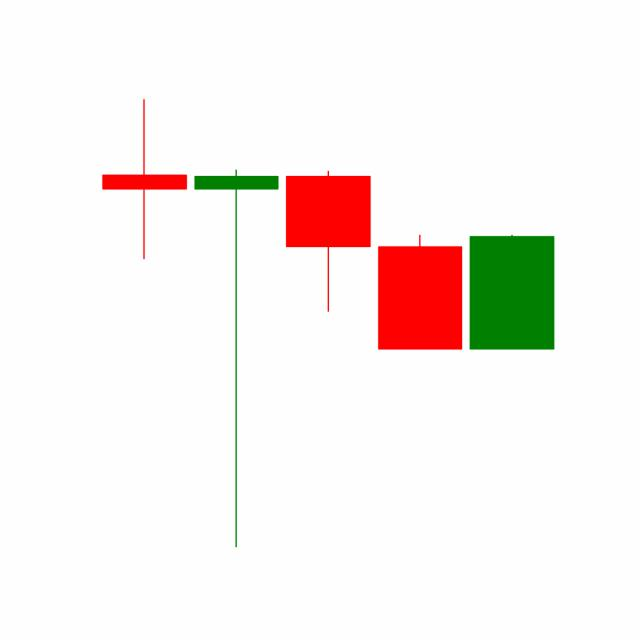Marubozu: (373, 233, 467, 351)
